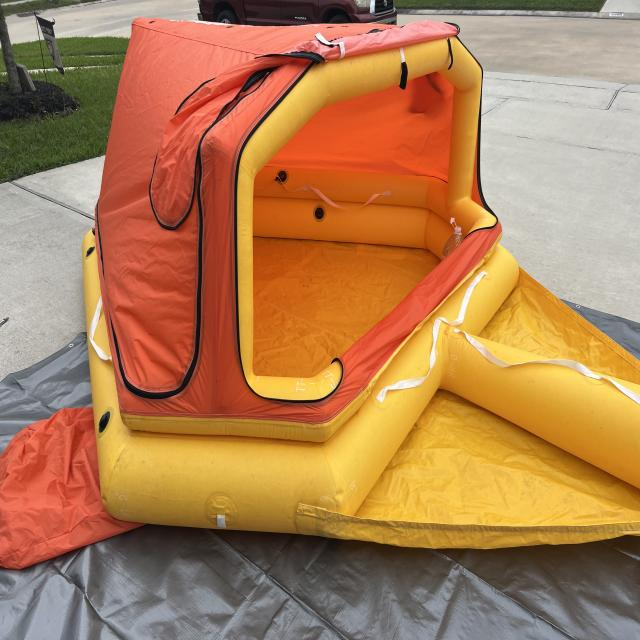Multi-person_life_raft: (0, 15, 640, 572)
